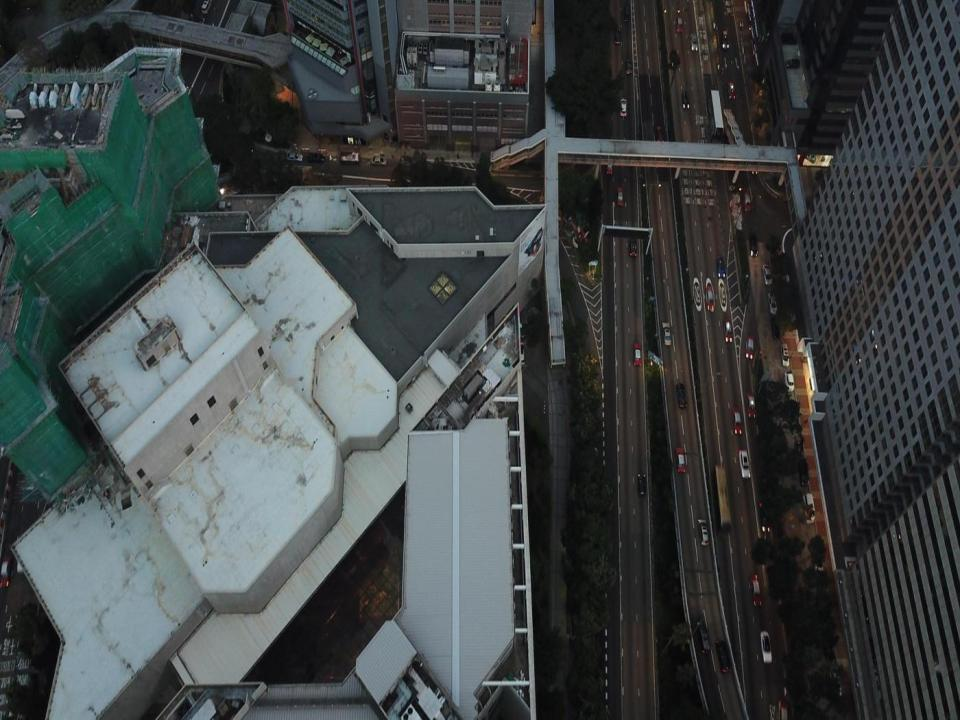bus: (707, 89, 725, 137)
car: (715, 638, 731, 674), (750, 573, 763, 608), (759, 628, 772, 662), (739, 449, 752, 477), (761, 500, 772, 532), (698, 518, 710, 546), (0, 557, 12, 585), (733, 406, 743, 437), (677, 383, 688, 409), (627, 232, 638, 257), (676, 446, 686, 472), (778, 698, 790, 719), (747, 391, 756, 418), (723, 320, 734, 342), (780, 344, 791, 366), (784, 370, 795, 392), (662, 320, 672, 344), (706, 284, 715, 310), (200, 0, 214, 16), (633, 342, 642, 366), (746, 333, 754, 360), (769, 292, 778, 316), (762, 265, 772, 286), (716, 256, 725, 278), (637, 472, 645, 496), (308, 154, 326, 164), (721, 26, 729, 48), (656, 124, 664, 146), (617, 185, 625, 206), (743, 190, 751, 211), (372, 154, 386, 166), (682, 88, 690, 108), (620, 98, 628, 118), (750, 234, 757, 256), (728, 80, 736, 99), (614, 27, 622, 45), (606, 154, 613, 174), (690, 32, 697, 51), (676, 17, 684, 33), (288, 153, 303, 161), (625, 57, 632, 74)
van: (697, 620, 711, 654), (803, 494, 815, 526), (618, 0, 631, 27), (796, 461, 809, 487)
